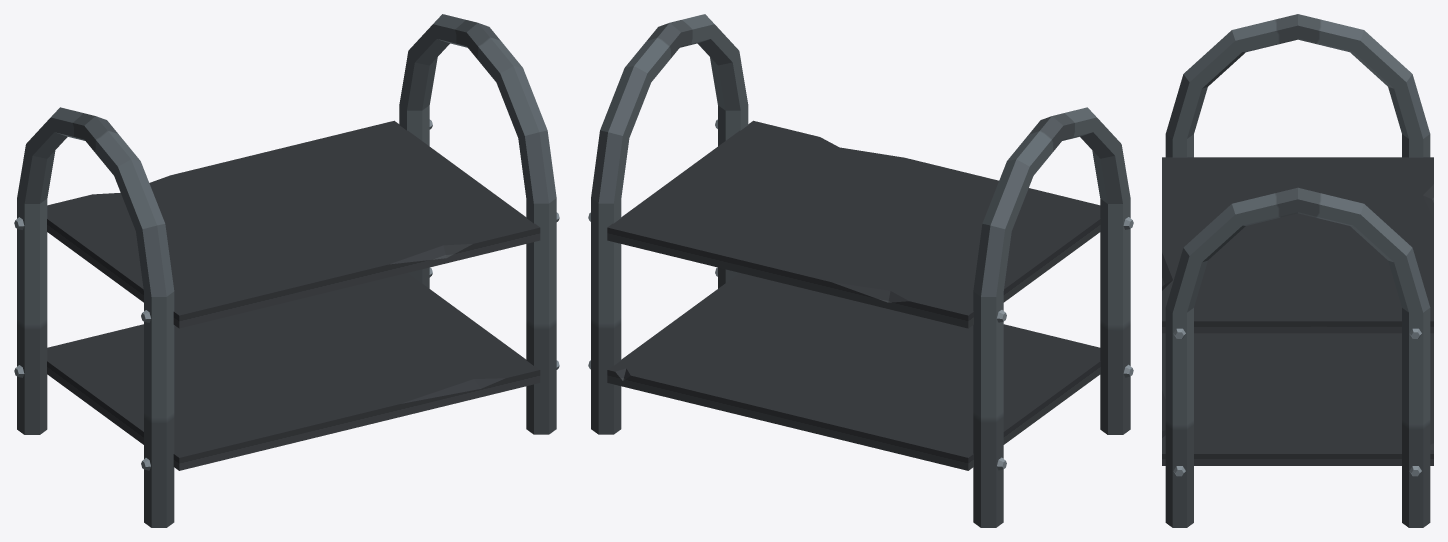
The model's file is SM_Prop_Shelf_01.fbx.
3 views of the same model, side by side, from view 1: azimuth 30°, elevation 25°; view 2: azimuth 150°, elevation 25°; view 3: azimuth 270°, elevation 25° (orthographic). The views are drawn at different scales.
Visible parts, largest first — view 1: SM_Prop_Shelf_01; view 2: SM_Prop_Shelf_01; view 3: SM_Prop_Shelf_01.
Boxes of the visible parts, x1=… form: SM_Prop_Shelf_01: x1=14, y1=14, x2=559, y2=527; SM_Prop_Shelf_01: x1=588, y1=14, x2=1133, y2=527; SM_Prop_Shelf_01: x1=1162, y1=14, x2=1433, y2=527.
Size of the model in its own units: 108 by 89.96 by 66.1.
